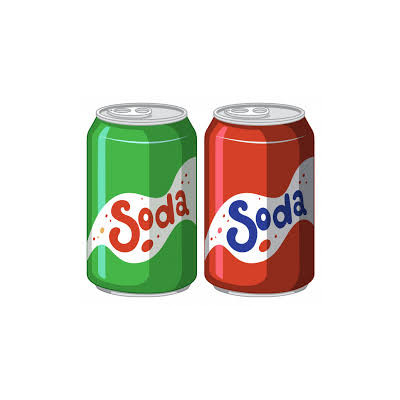can: (201, 102, 322, 297), (84, 102, 200, 295)
